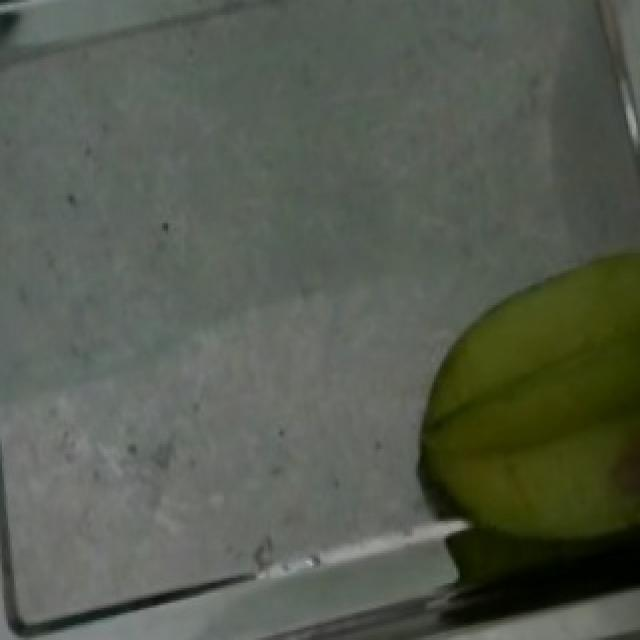fruit: (390, 221, 640, 573)
